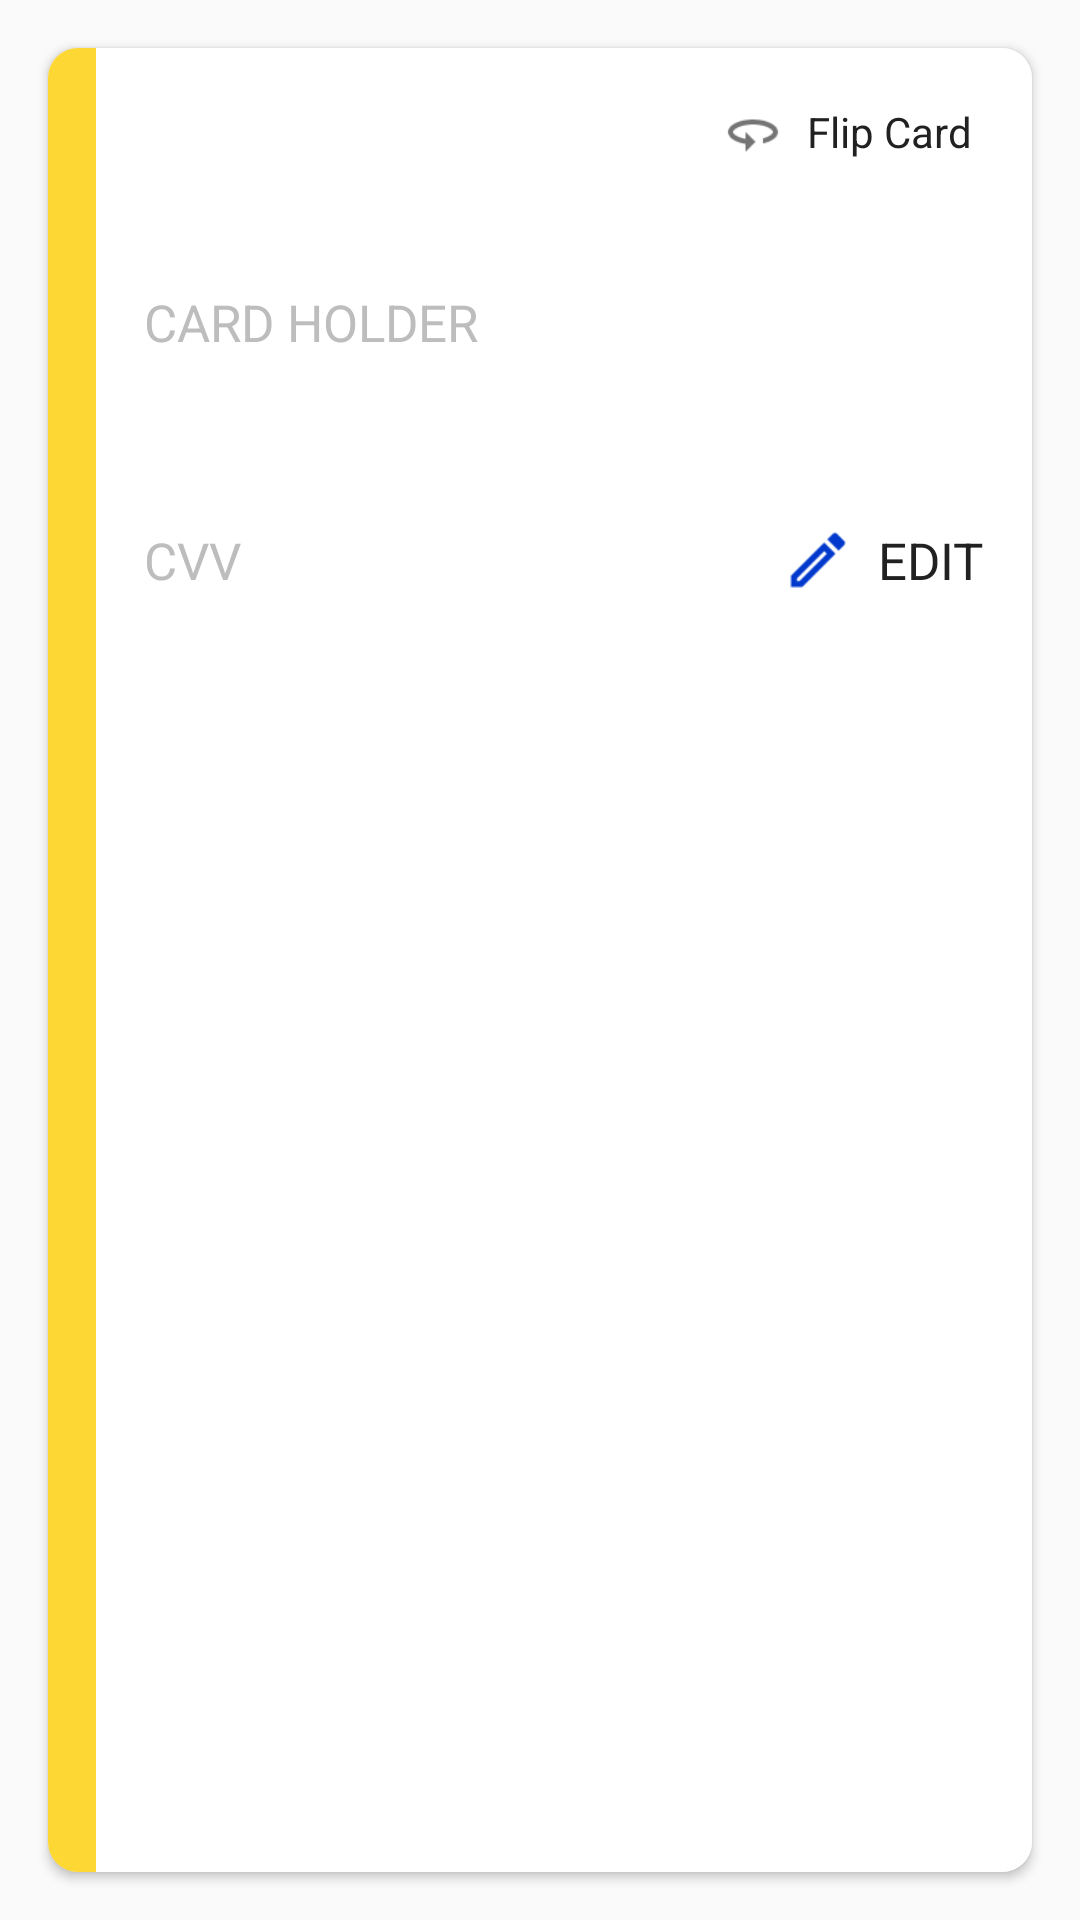

Screen size 1080 × 1920. Icon name, then its center in pixels as [x,y]:
create: [818,560]
